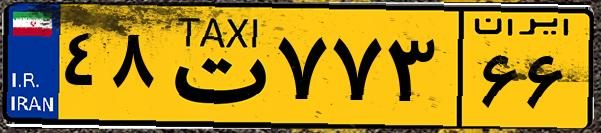3: (385, 28, 445, 110)
4: (57, 26, 110, 100)
6: (475, 38, 525, 113), (525, 38, 570, 115)
7: (270, 28, 330, 110), (330, 28, 385, 110)
8: (110, 28, 158, 98)
ت: (158, 12, 270, 120)
